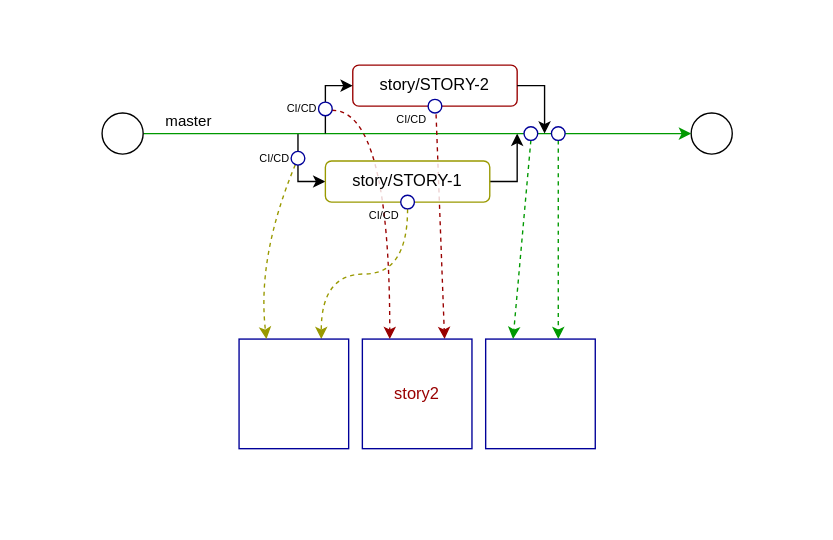
Some shapes in this 833 by 540 pixel diagram are drawn without their labels. The shapes that lost their labels are listed below. From the top down, each one's box as (x1, y1, x2, y2) in pixels, then its label:
(238, 338, 349, 449): story1
(484, 338, 595, 449): dev
